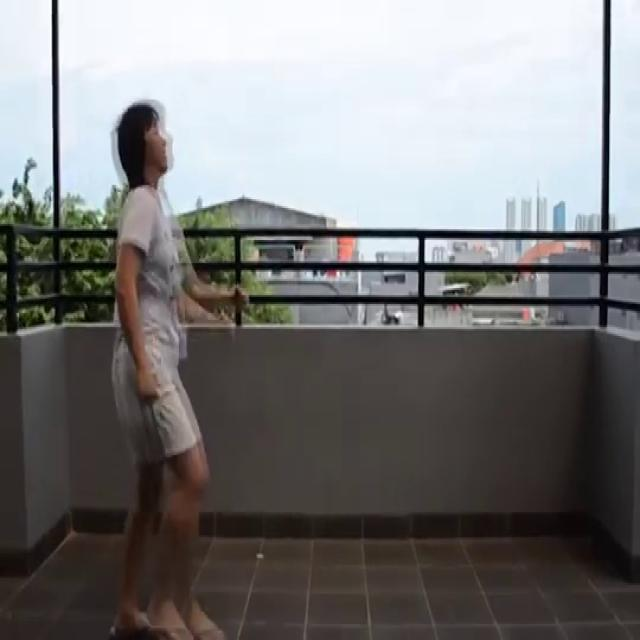normal: (92, 94, 234, 640)
